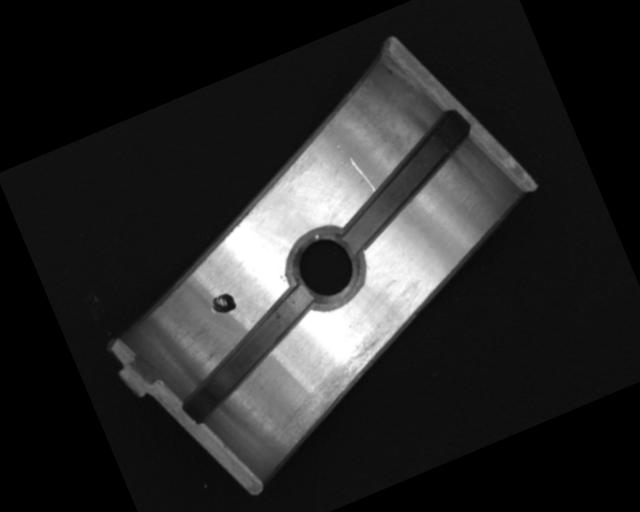blot: (206, 290, 238, 318)
gap: (315, 107, 494, 255), (157, 282, 338, 425)
hole: (277, 218, 373, 319)
nick: (348, 153, 376, 197)
scratch: (267, 322, 425, 443)
